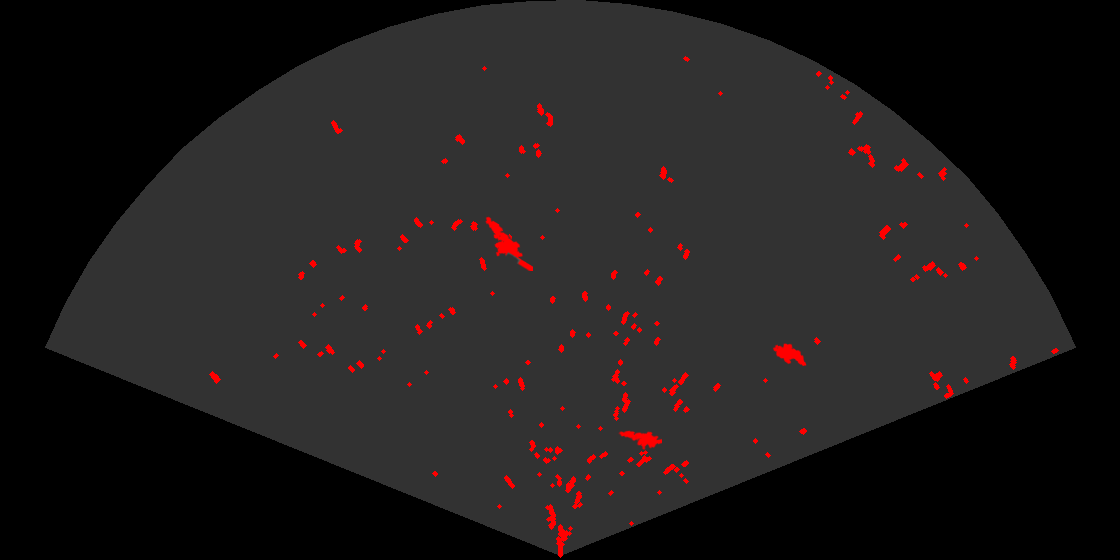AUV: (771, 342, 808, 368)
frogman: (484, 215, 533, 271), (618, 429, 662, 452)
